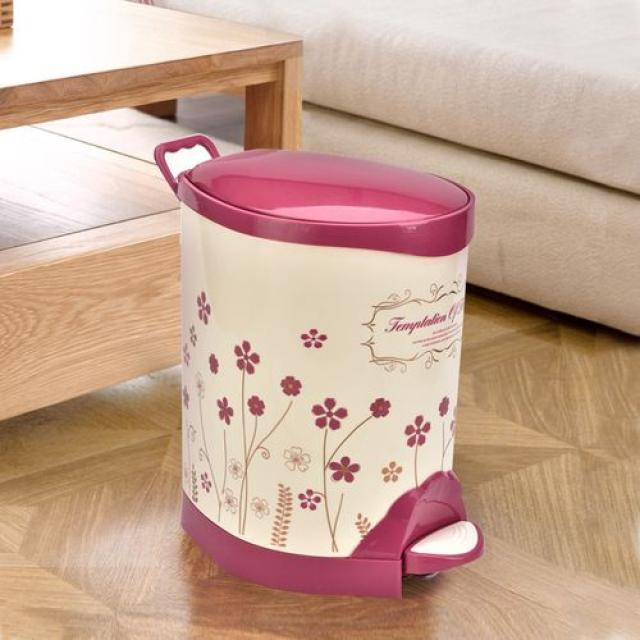dustbin: (147, 131, 498, 602)
